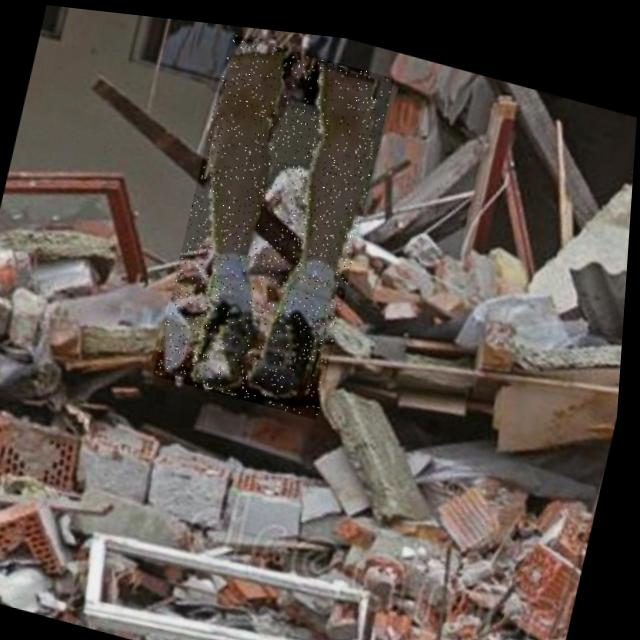Person in Rubble: (156, 23, 396, 417)
